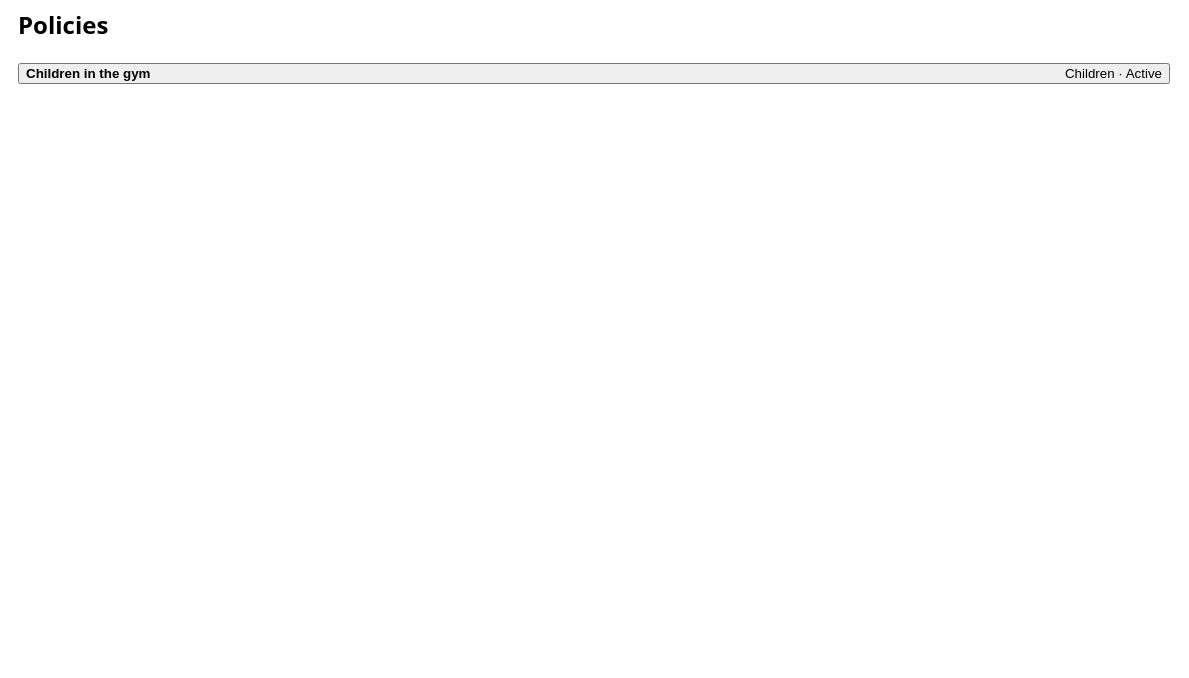
Test case: PoliciesSection › says when someone else changed it meanwhile, and reads it again
Click the button "Children in the gym Children · Active" at (88, 73), box [18,63,1170,84]
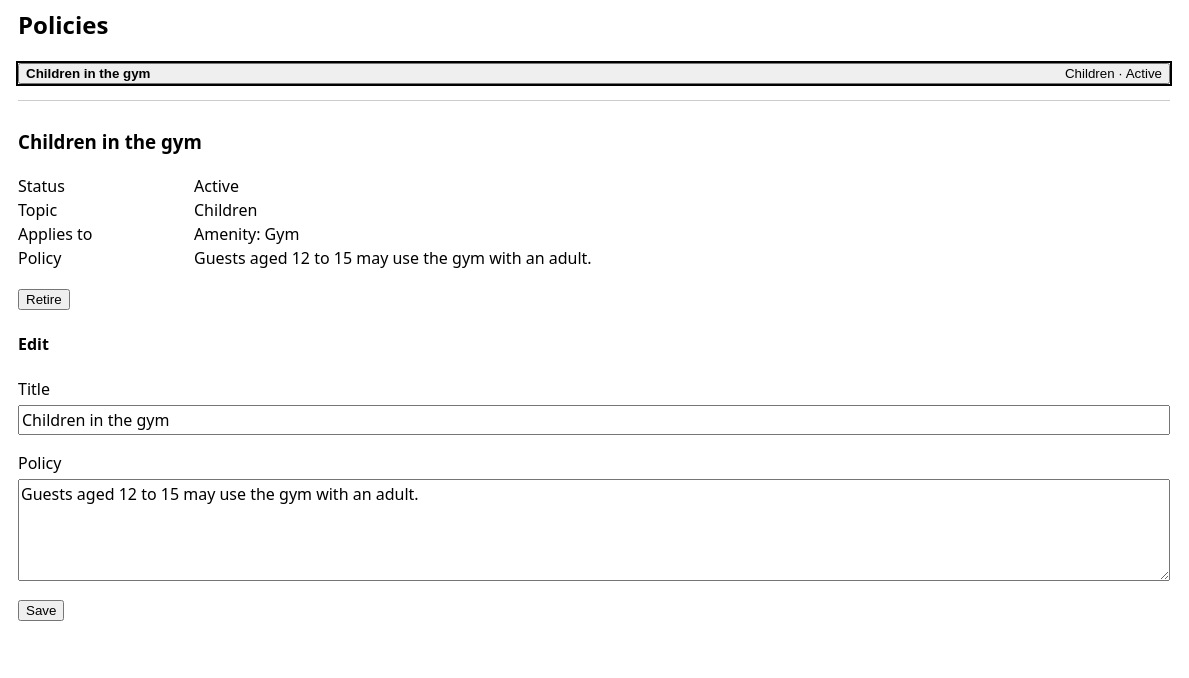
Click the button "Save" at (41, 610), box [18,600,64,621]
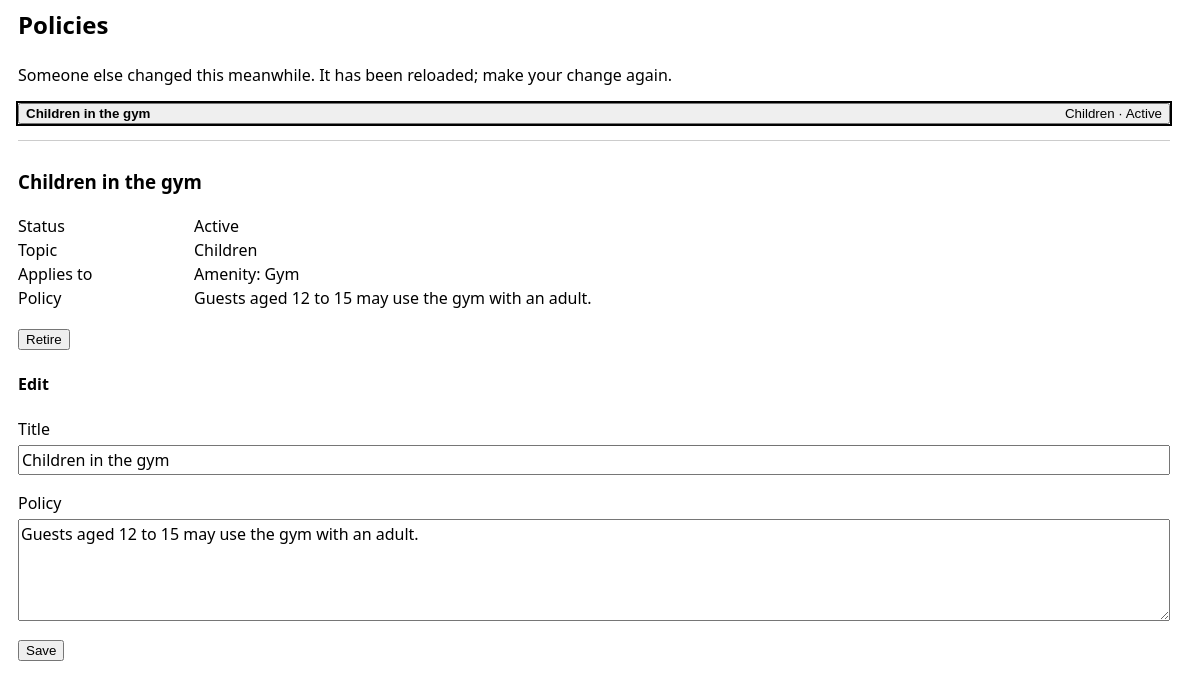
Result: the message shows "Someone else changed this" at [18,64,672,86]
